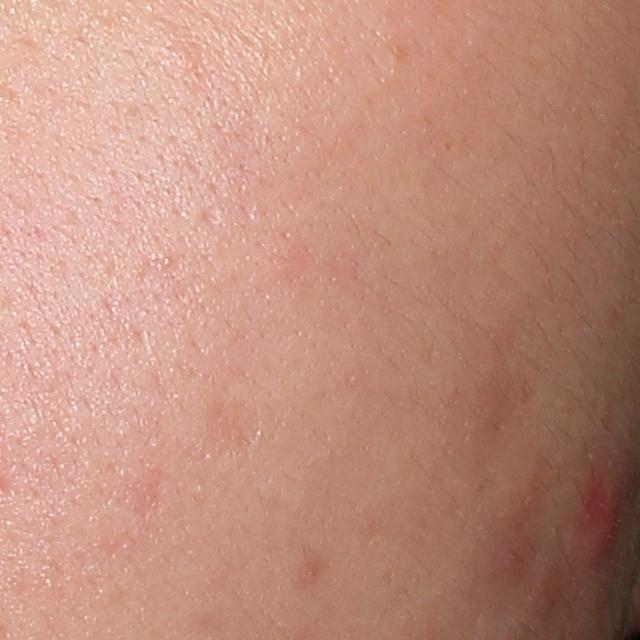papule: (583, 488, 628, 565)
